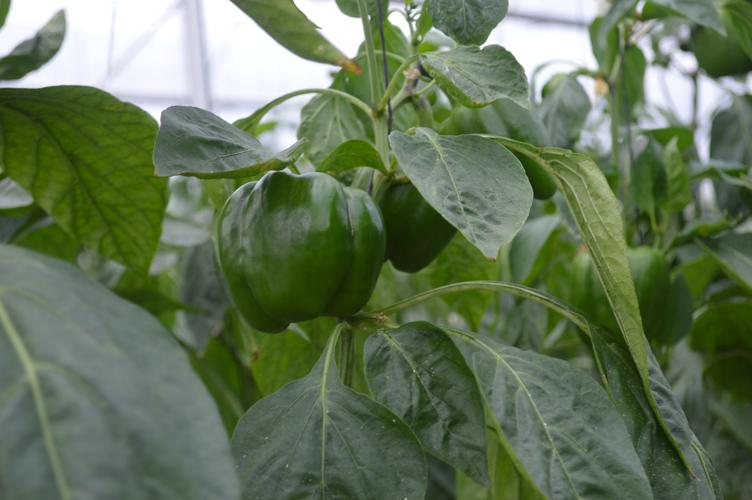BellPepper: (218, 168, 385, 324), (357, 163, 455, 273), (445, 103, 554, 200), (564, 246, 669, 343)
